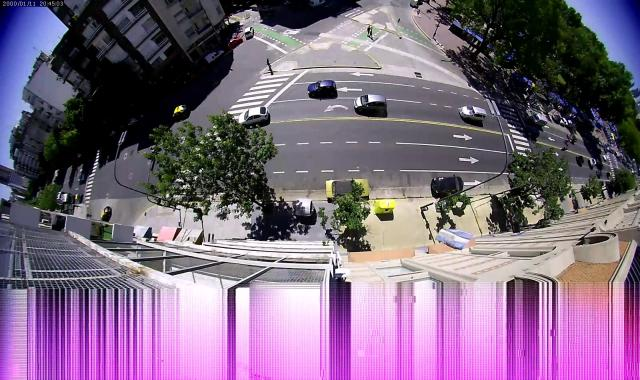bus: (60, 194, 74, 204), (56, 192, 65, 200)
car: (325, 178, 370, 198), (354, 94, 387, 115), (238, 107, 270, 128), (432, 176, 463, 194), (308, 80, 336, 96), (459, 106, 487, 122), (171, 105, 190, 121), (204, 50, 224, 64), (530, 114, 548, 126), (228, 36, 242, 50), (101, 207, 111, 220), (244, 26, 254, 39), (310, 0, 326, 8), (567, 134, 577, 142), (261, 6, 273, 12), (588, 158, 596, 166), (560, 118, 568, 126), (552, 115, 561, 122), (576, 156, 584, 163), (78, 175, 85, 182), (75, 194, 83, 200), (568, 120, 574, 127), (597, 148, 603, 154), (596, 171, 602, 176), (602, 155, 608, 160), (606, 171, 611, 176), (604, 148, 610, 152)
